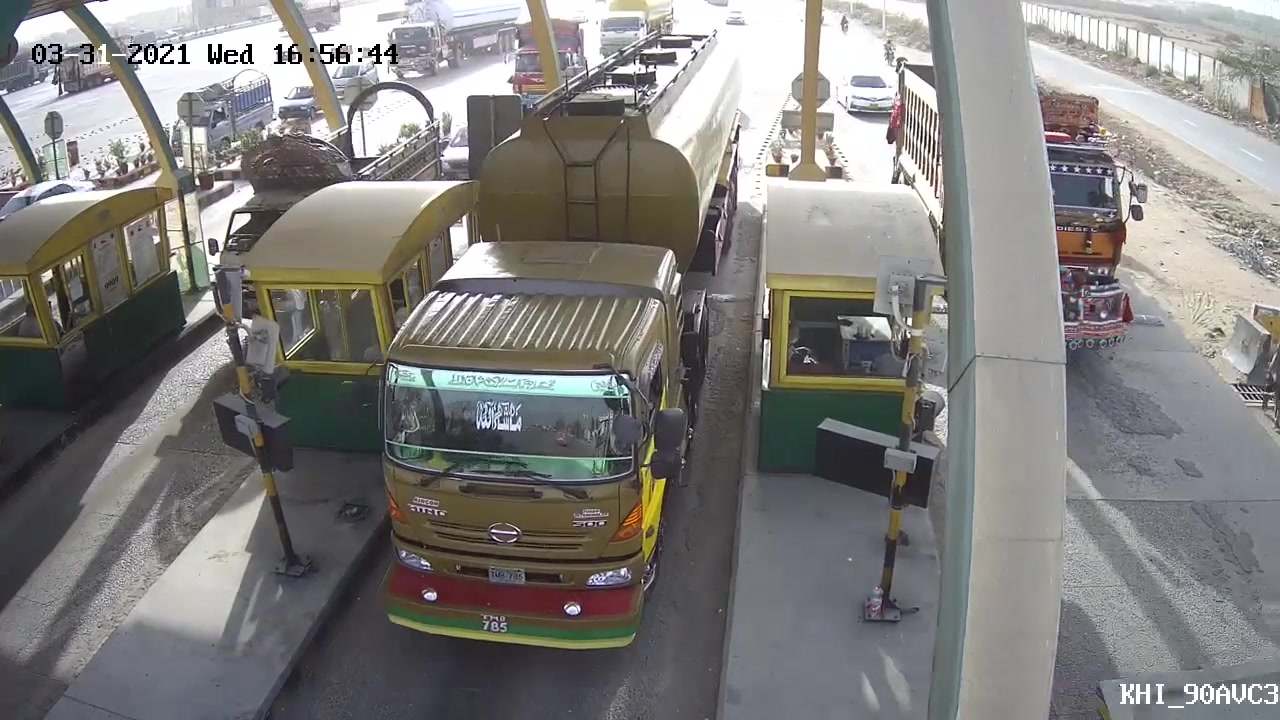F6: (350, 33, 730, 672)
